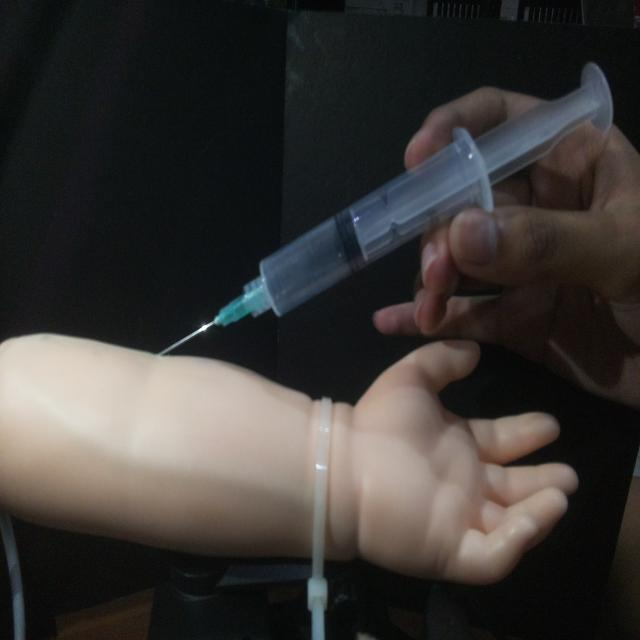25deg: (151, 58, 616, 360)
